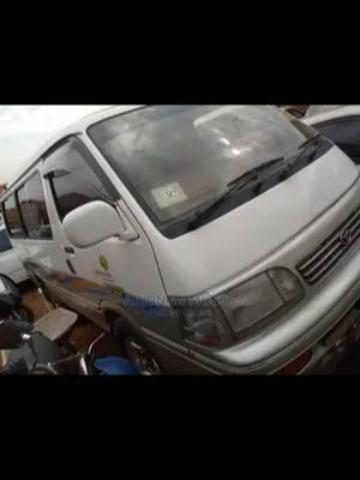van: (0, 102, 357, 368)
